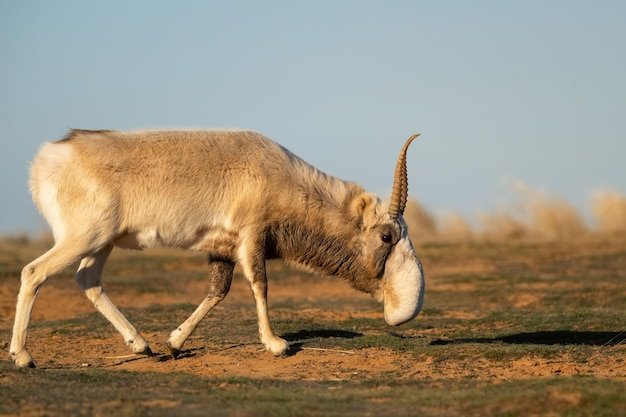saiga: (11, 124, 431, 374)
